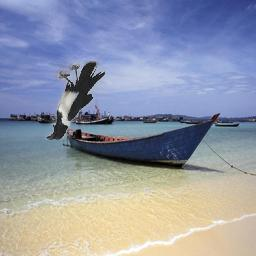Crow: (45, 62, 105, 141)
